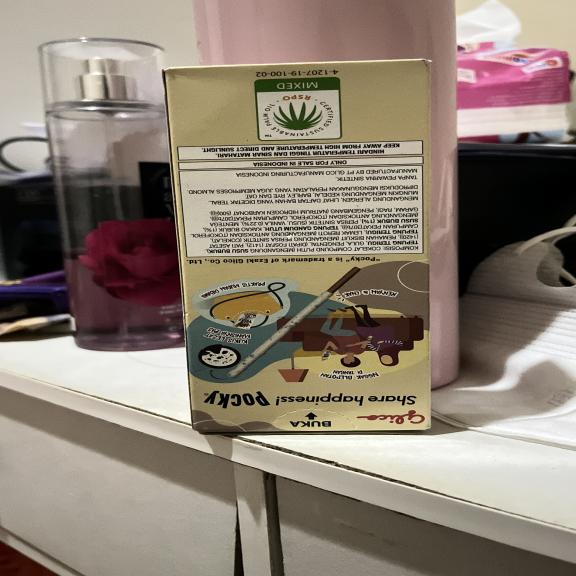Kertas: (152, 59, 437, 437)
